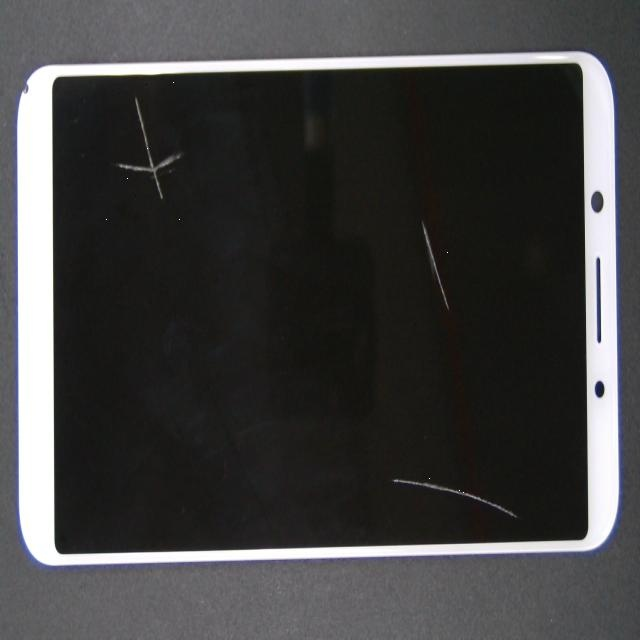scratch: (202, 212, 572, 640), (195, 60, 617, 386), (105, 102, 233, 183)
